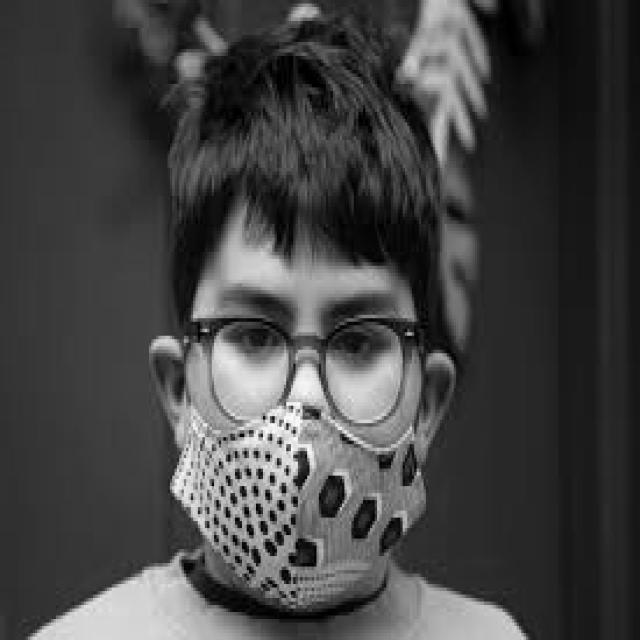with_mask: (168, 336, 428, 616)
